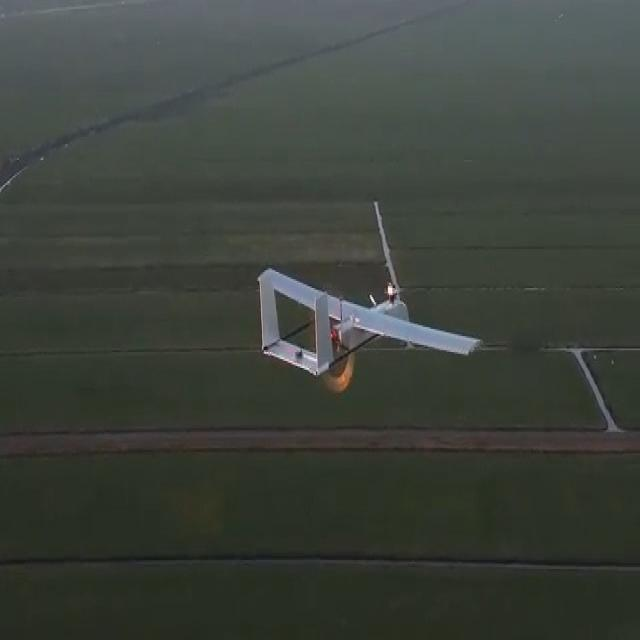iha: (254, 259, 480, 389)
